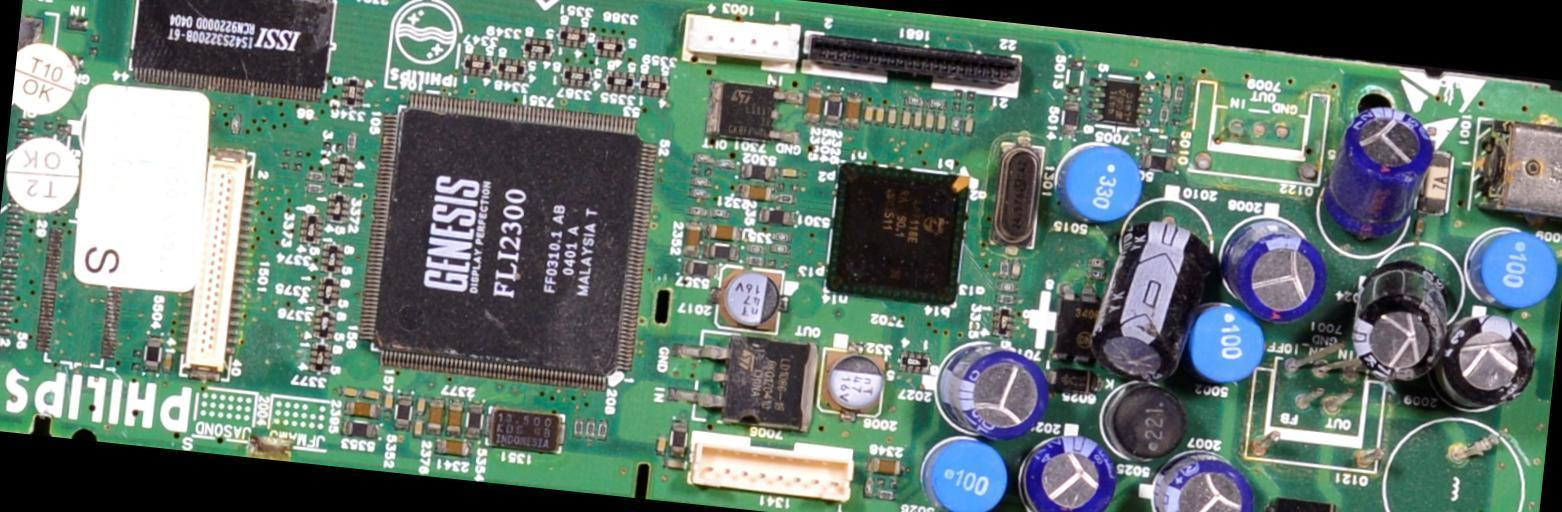Capacitor: (737, 183, 777, 202), (343, 401, 381, 420), (434, 438, 472, 457), (683, 223, 704, 257), (707, 223, 742, 243), (427, 398, 446, 434), (870, 455, 903, 475), (804, 93, 824, 125), (447, 401, 464, 437), (843, 99, 862, 127), (778, 166, 801, 179), (666, 456, 687, 470), (1163, 80, 1174, 105), (935, 112, 948, 133), (964, 116, 976, 137), (383, 391, 395, 411), (656, 433, 667, 454), (339, 387, 358, 399), (925, 112, 936, 132), (413, 418, 424, 438), (364, 389, 382, 401), (913, 110, 924, 129), (1012, 260, 1022, 280), (417, 395, 427, 415), (901, 109, 912, 127), (865, 105, 875, 124), (888, 108, 899, 125), (876, 105, 885, 124)
Connector: (802, 31, 1024, 95), (186, 153, 248, 372), (693, 428, 851, 501), (1469, 115, 1561, 222), (684, 14, 803, 73)
IC: (360, 88, 659, 395), (825, 158, 971, 311), (129, 0, 339, 102), (1082, 73, 1156, 130)
Resistor: (302, 182, 326, 195), (927, 97, 949, 111), (305, 170, 328, 183), (770, 242, 792, 255), (231, 113, 243, 136), (996, 282, 1019, 294), (995, 293, 1018, 305), (691, 175, 713, 187), (775, 192, 797, 204), (771, 231, 793, 243), (999, 258, 1011, 280), (744, 256, 766, 268), (1084, 270, 1107, 281), (950, 115, 962, 136), (695, 152, 716, 164), (708, 208, 729, 220), (688, 205, 707, 218), (905, 95, 925, 107), (717, 159, 737, 171), (748, 242, 767, 254), (1088, 258, 1107, 269), (347, 132, 357, 152), (691, 189, 709, 199)
Transistor: (665, 328, 824, 436)
